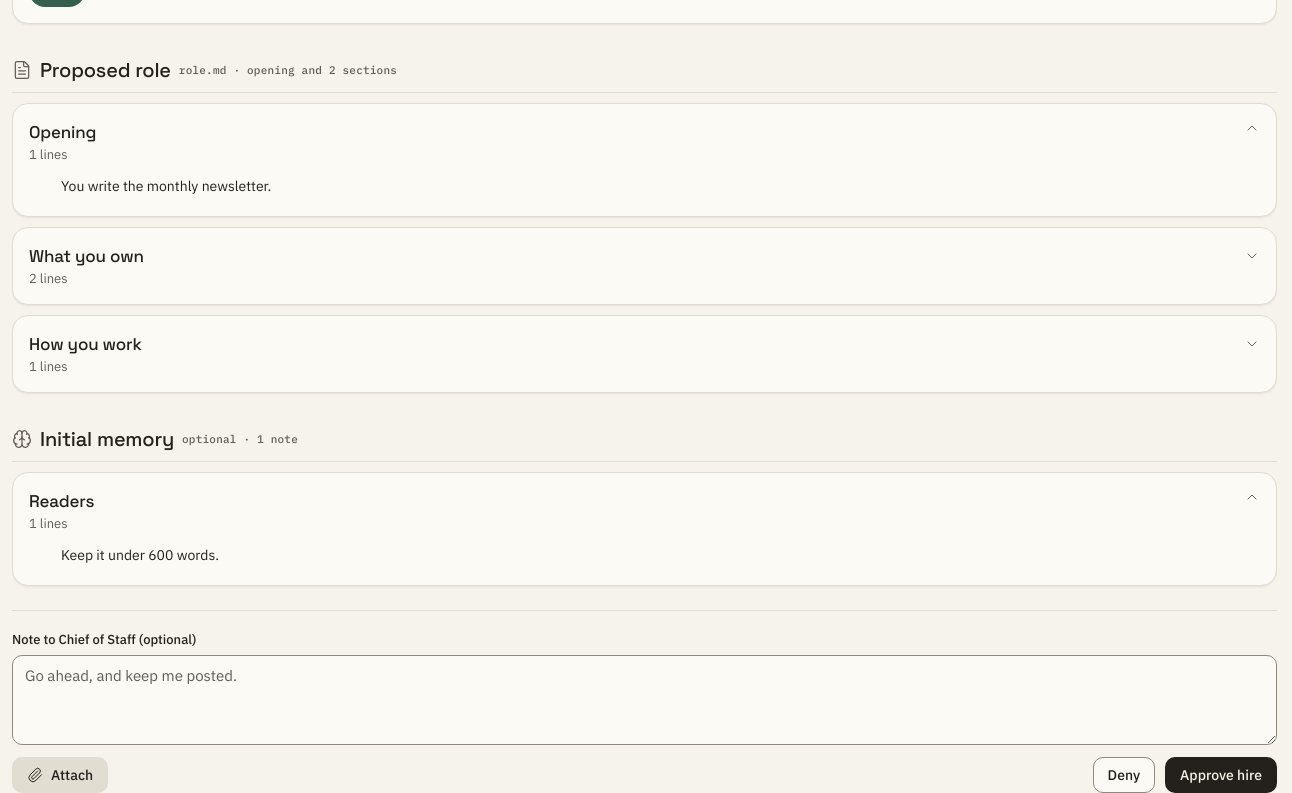
Scenario: Proposal page › keeps the decision and says what happened when the answer fails
This screenshot has width=1292, height=793.
(page scrolled)
Click the button "Approve hire": (1221, 775) [1165, 757, 1277, 792]
(page scrolled)
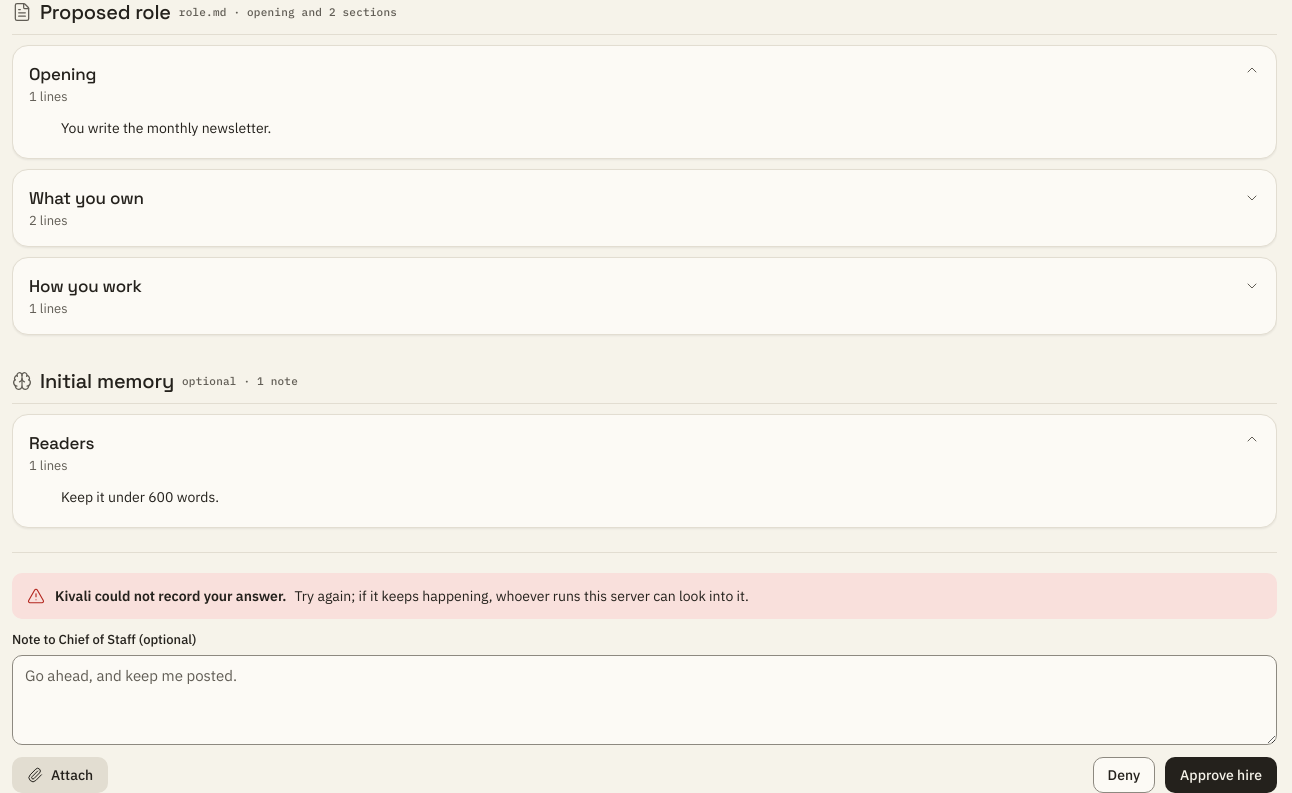
Expected: the text "Kivali could not record your answer." is shown, [55, 586, 286, 606]
